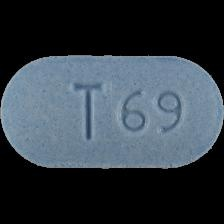0093-7569: (0, 0, 224, 224)
